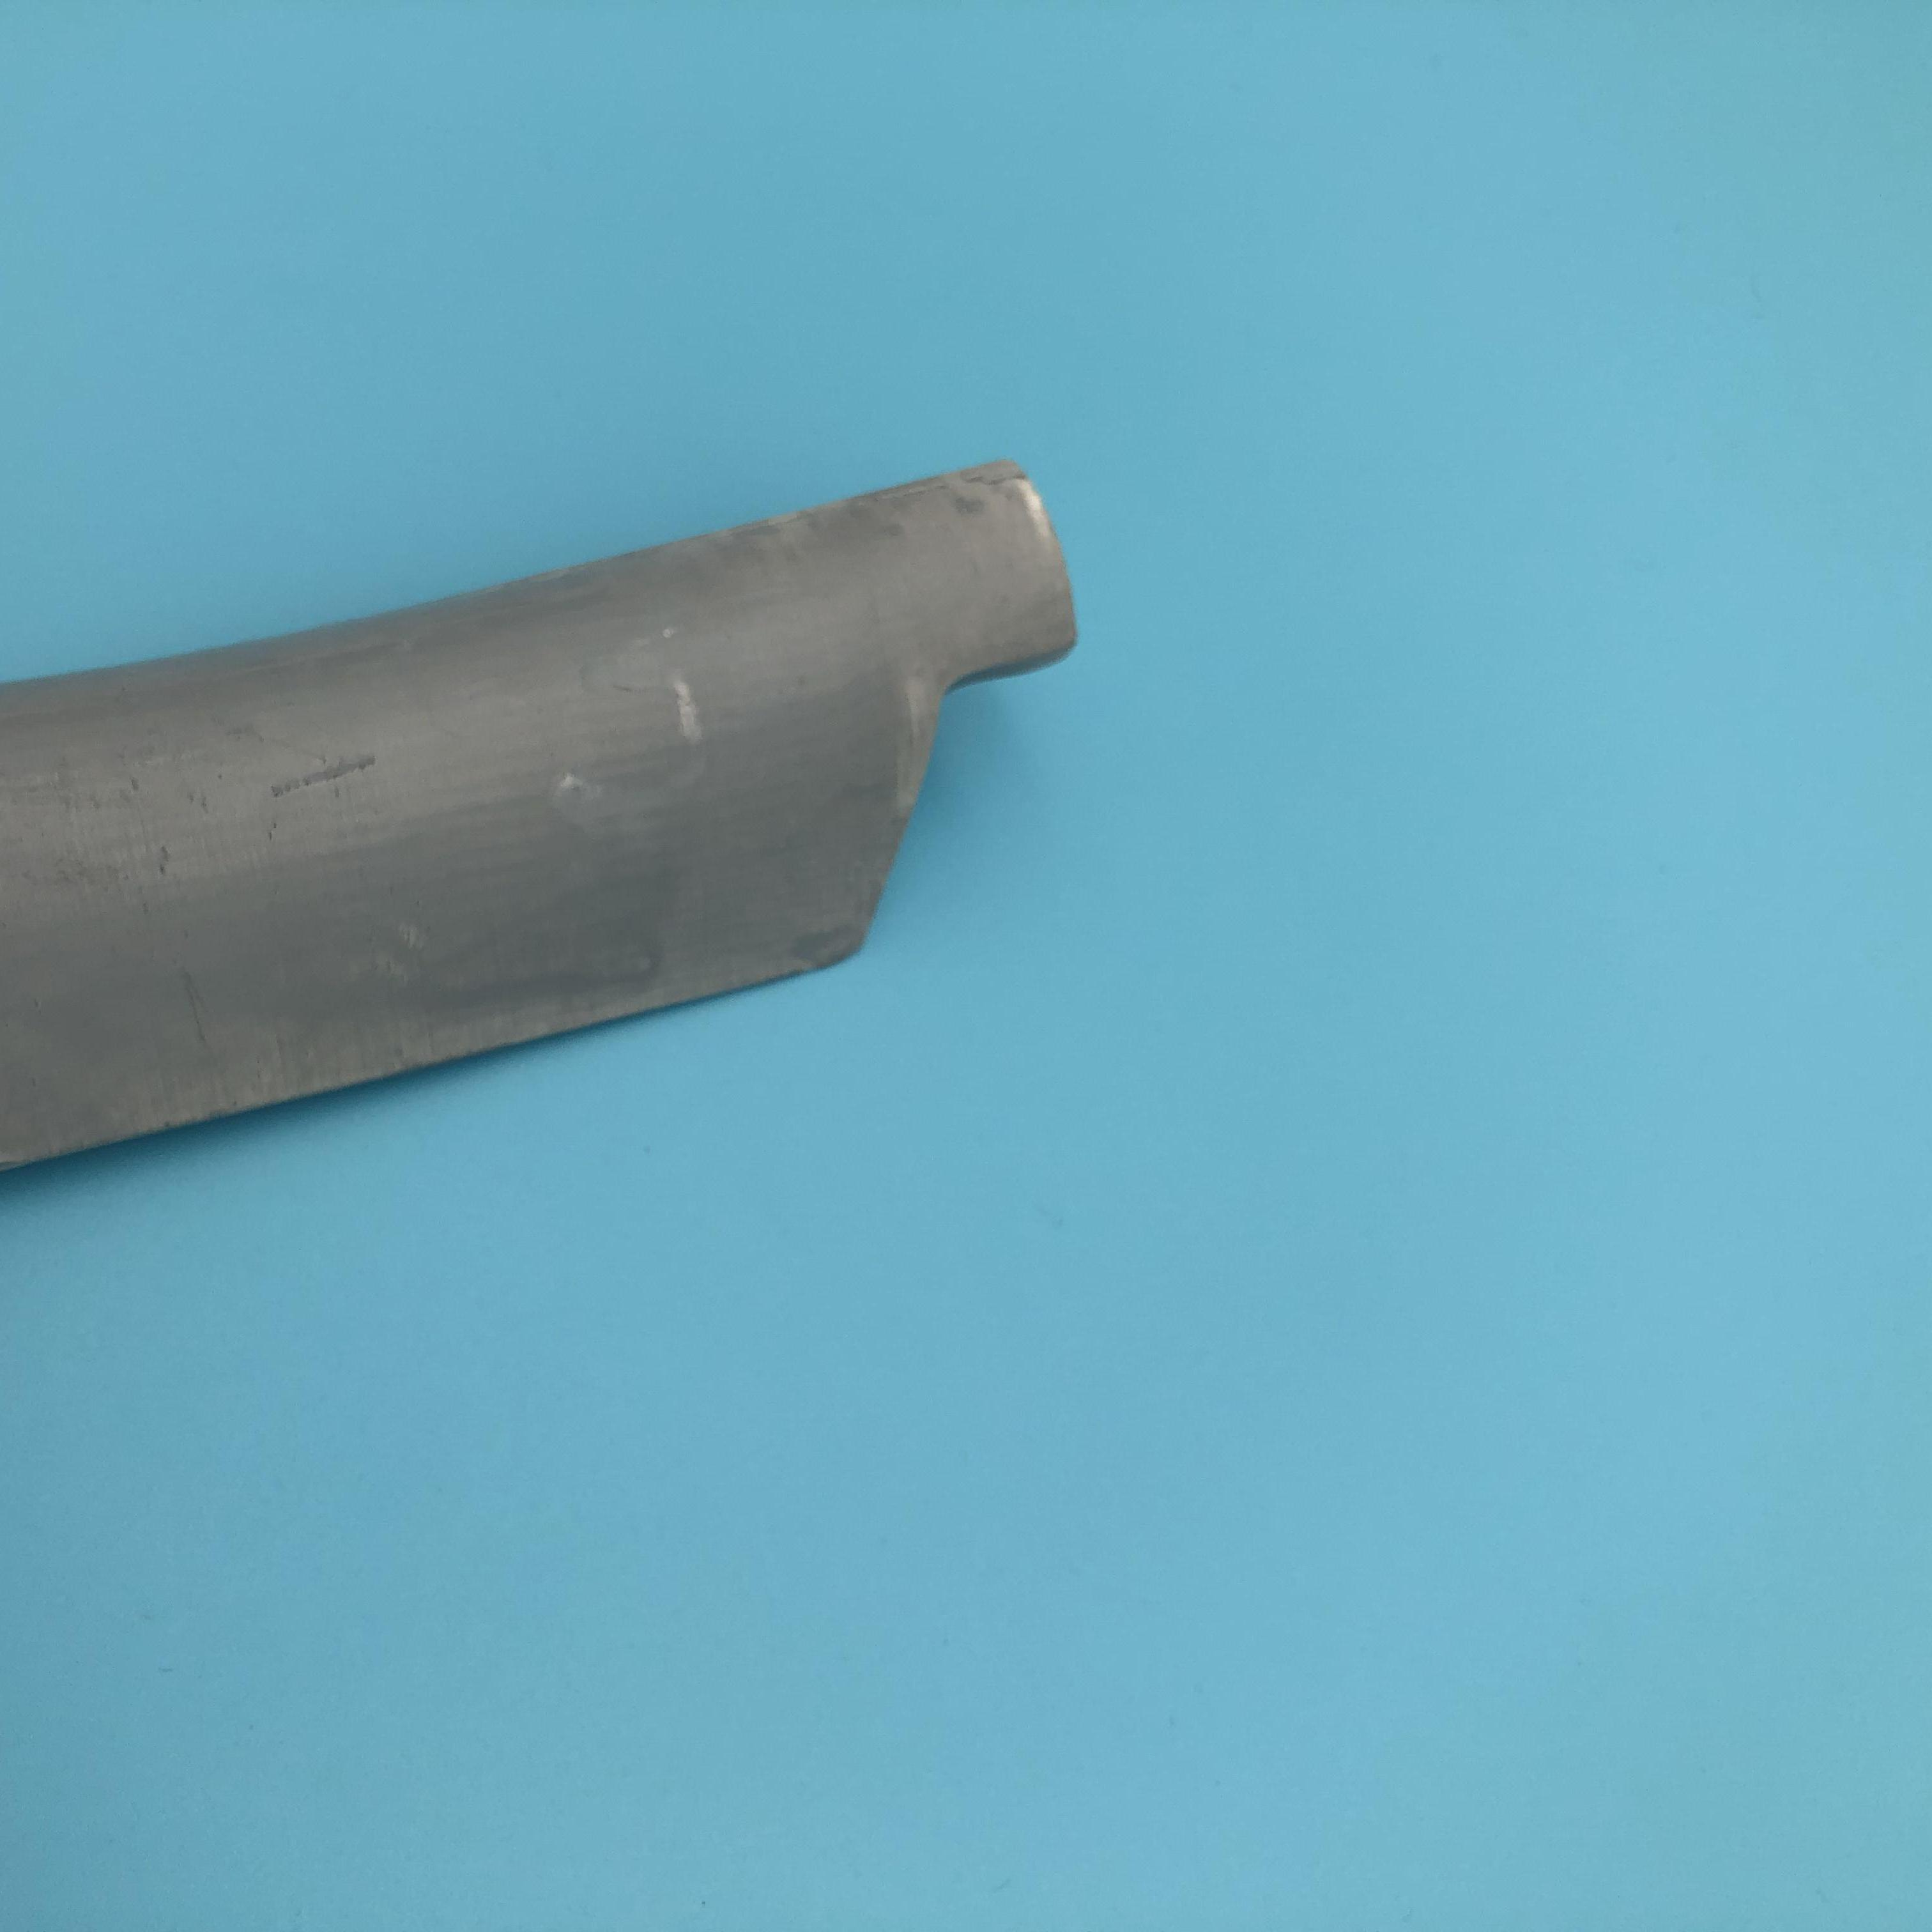fracture: (895, 662, 1072, 901)
